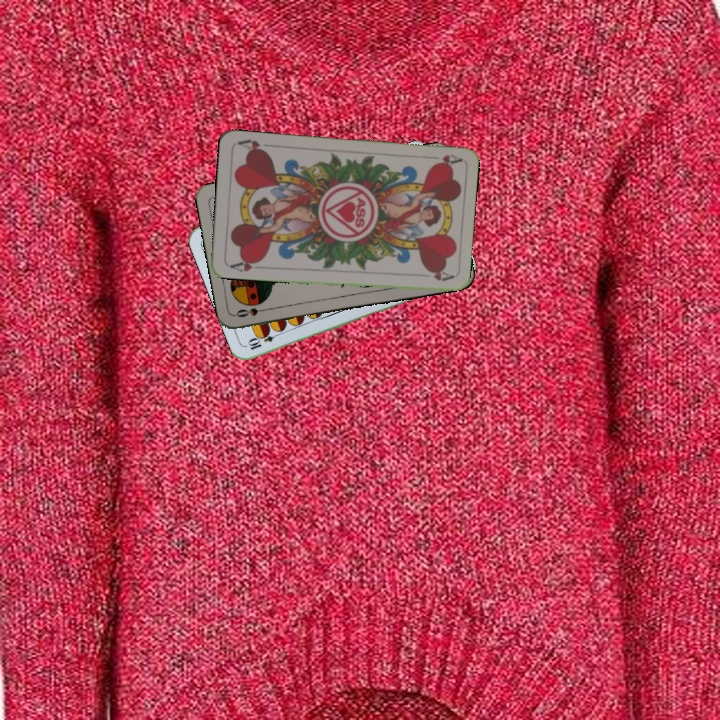E10: (244, 327, 283, 353)
HA: (226, 255, 265, 275), (422, 150, 463, 169)
SO: (232, 304, 272, 320)
